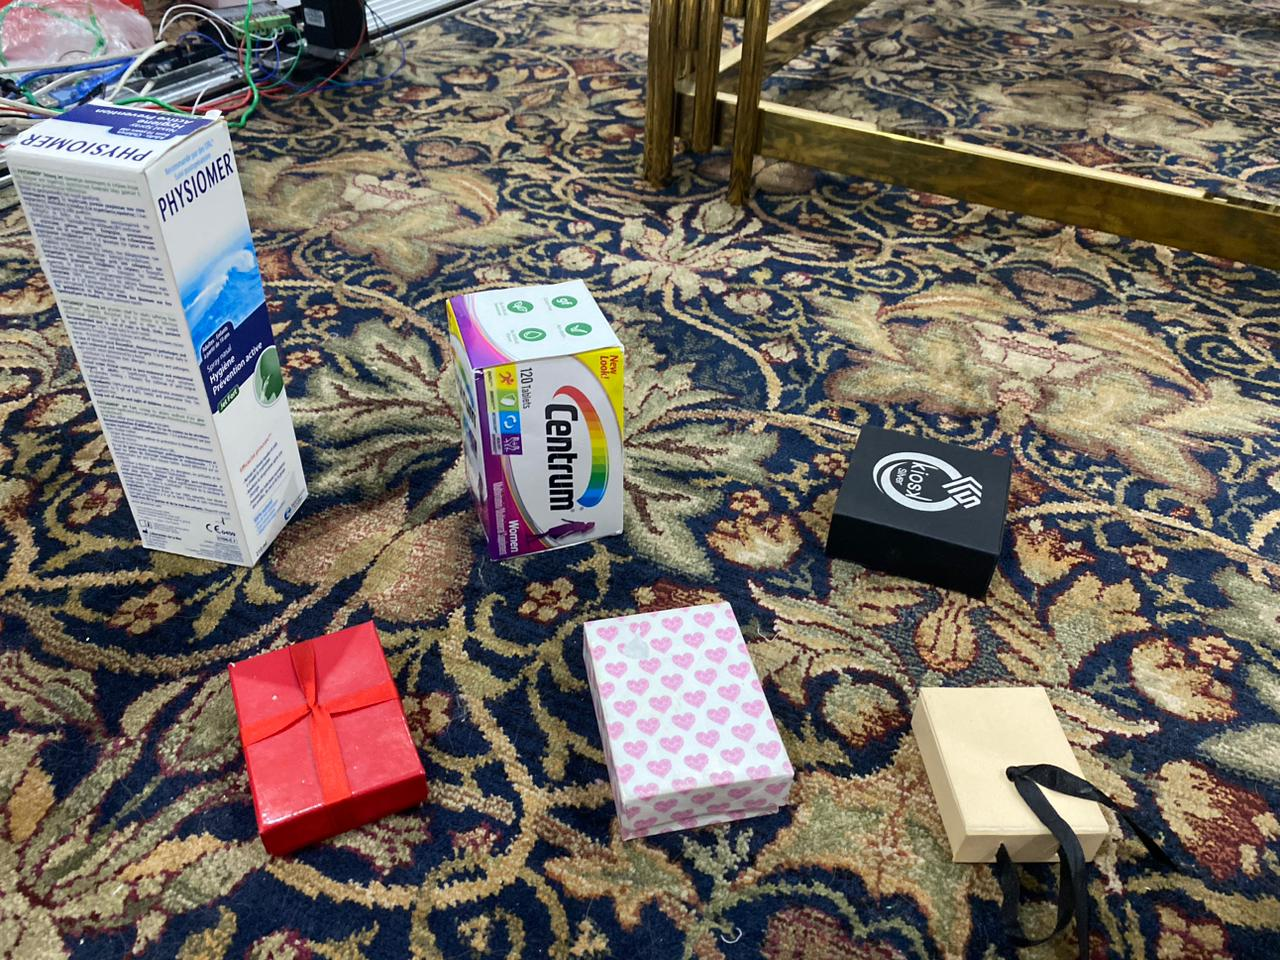Black Box: (231, 617, 430, 849)
Centrum: (444, 278, 628, 562)
Physiomer: (9, 95, 314, 567)
Pink Box: (575, 596, 801, 853)
Red Box: (828, 415, 1008, 601)
Yellow Box: (908, 672, 1120, 878)
